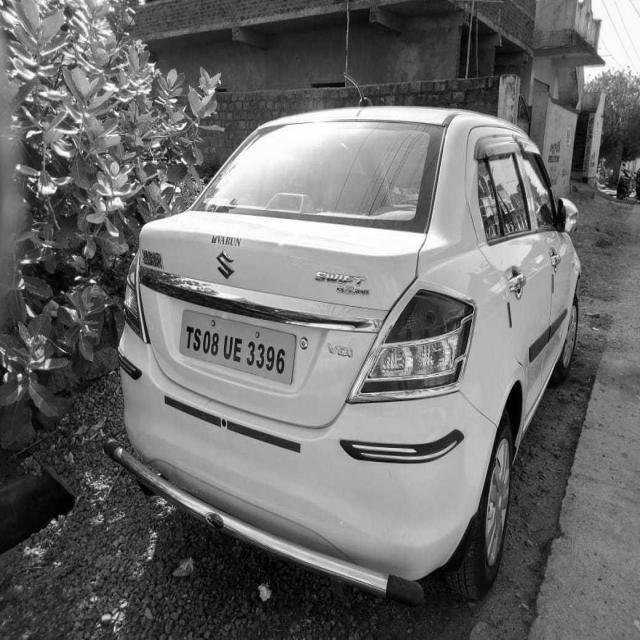car: (109, 98, 581, 609)
license-plate: (173, 306, 298, 388)
